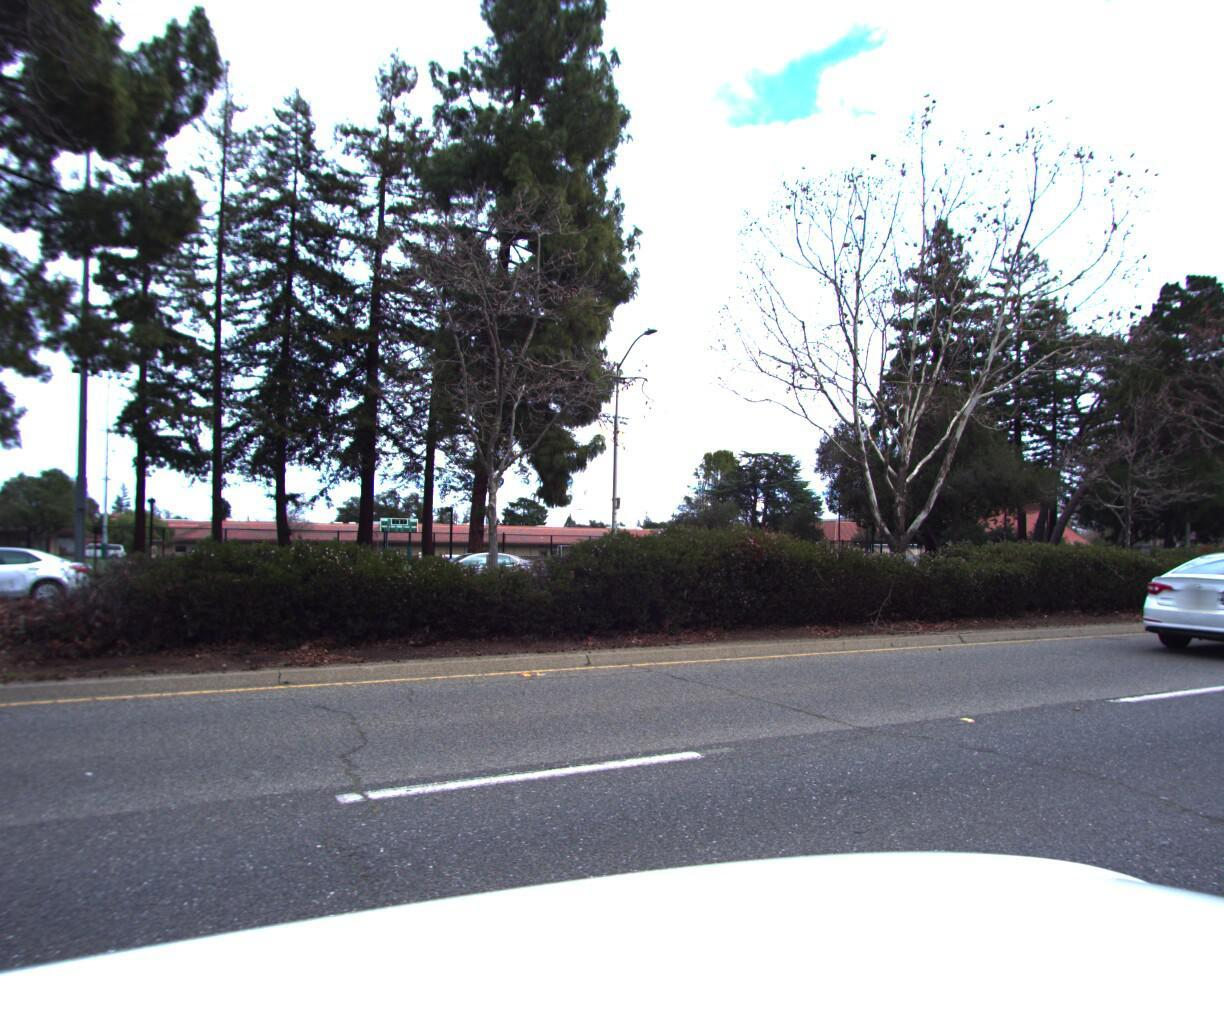car: (1116, 545, 1224, 669), (379, 545, 554, 603), (0, 538, 94, 615)
